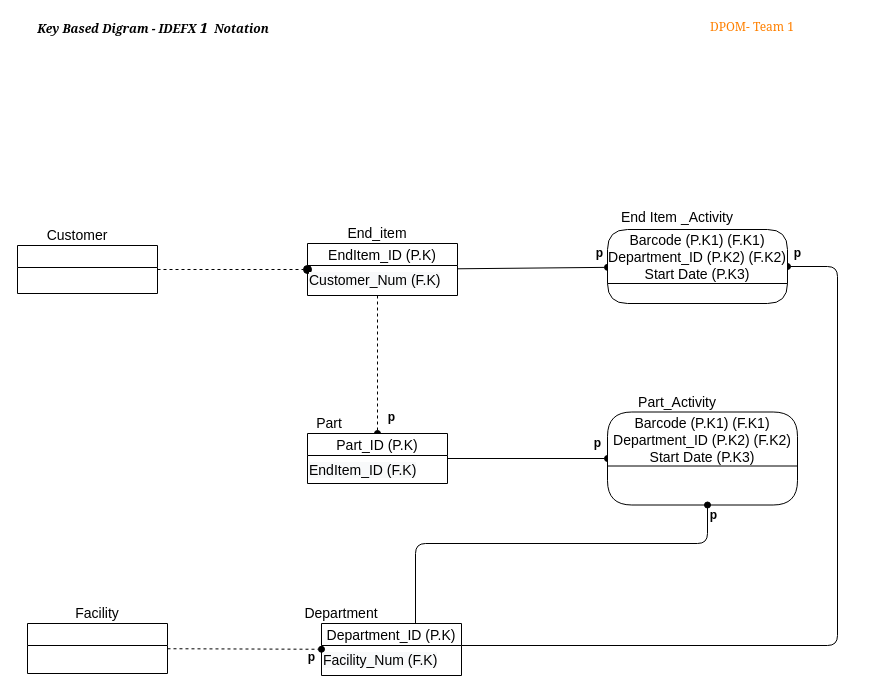
Some shapes in this 885 by 693 pixel diagram are drawn without their labels. Here are the shapes that lost their labels. From the top down, the centre of each, then its label:
the point at 87,269: Customer_Num (P.K)
the point at 97,648: Facility_Num (P.K)
